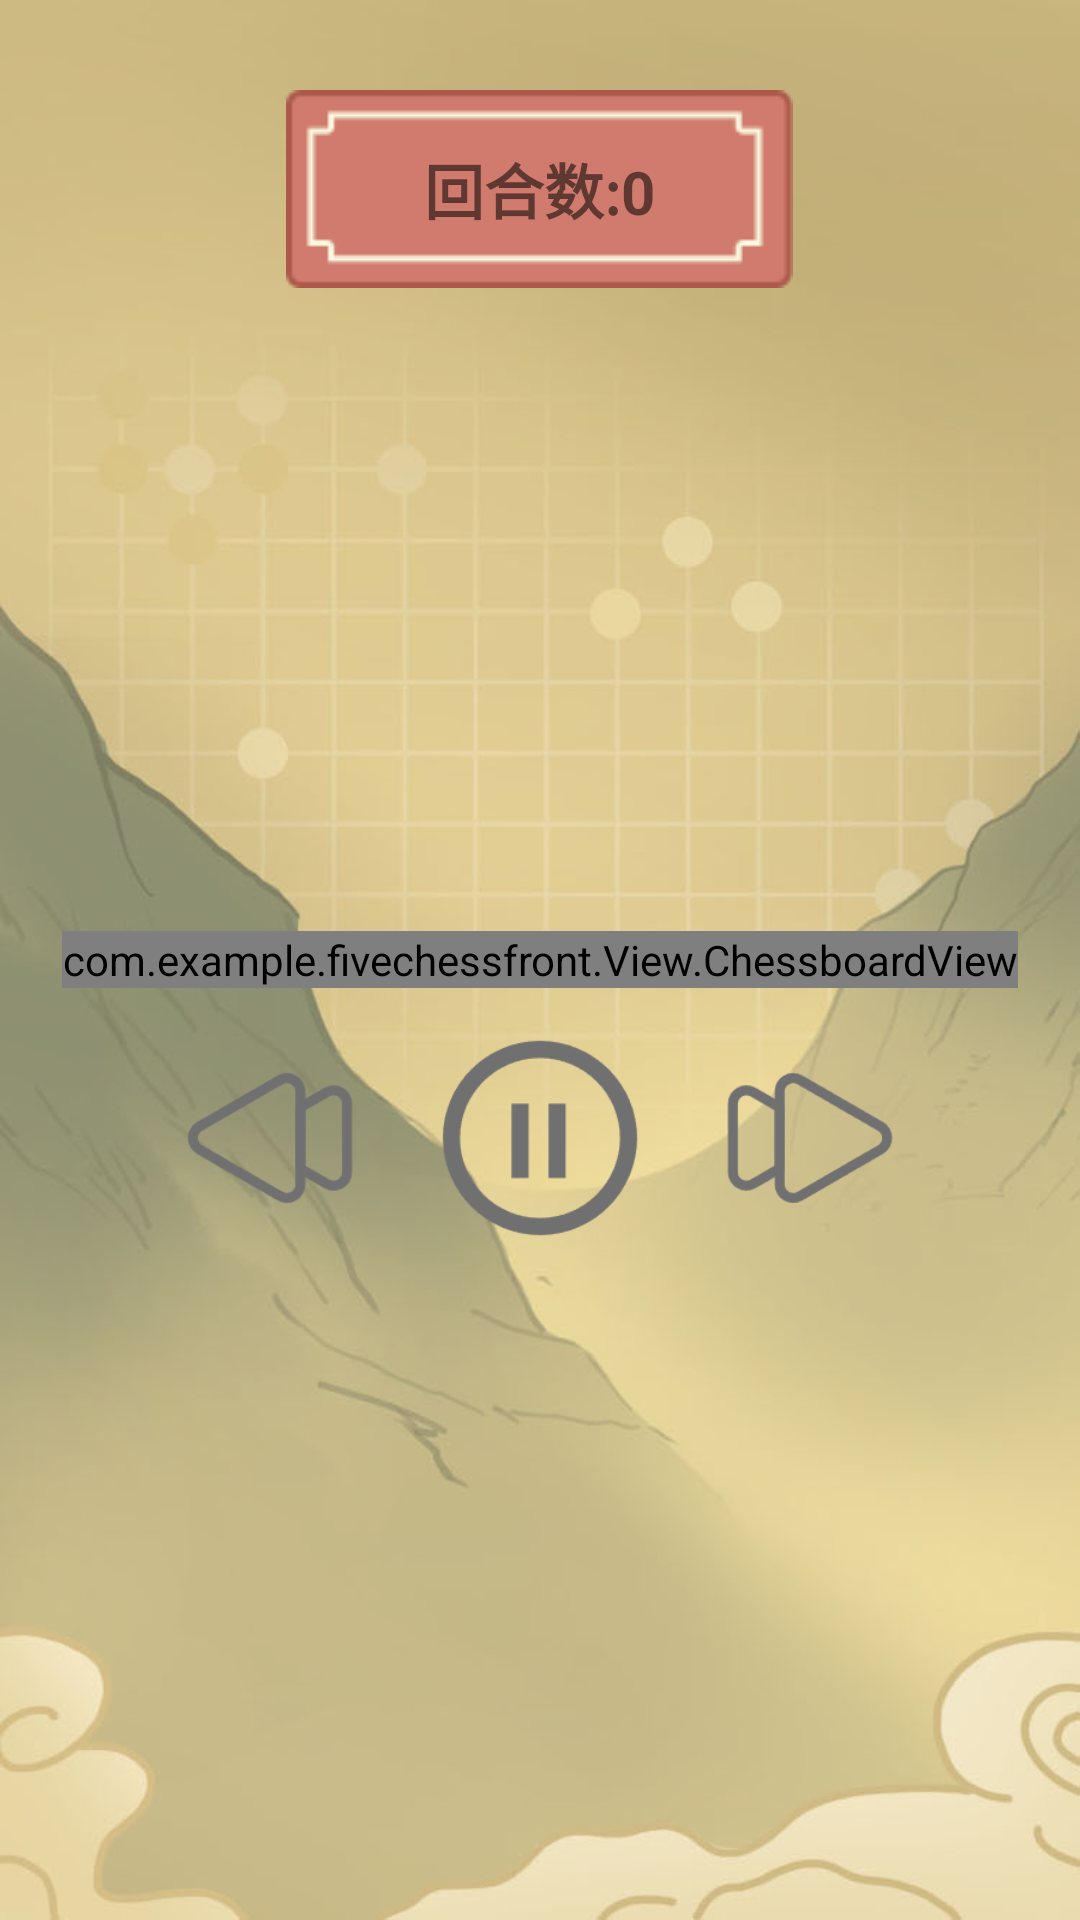

Icons on this 1080*1920 Android screen, each with its box as (x1, y1, x2, y2):
back: (185, 1018, 390, 1258)
forward: (690, 1018, 893, 1203)
suspend: (420, 1041, 637, 1258)
